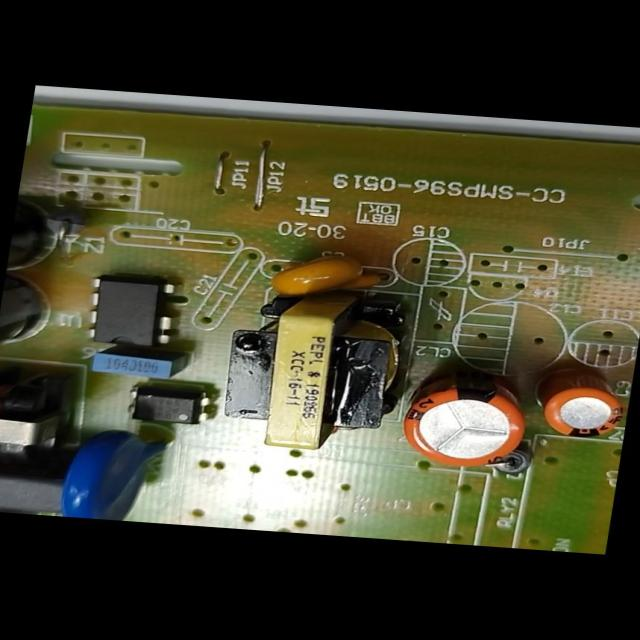Cap1: (388, 357, 537, 481)
Cap2: (525, 359, 634, 444)
Cap3: (0, 272, 85, 384)
Cap4: (2, 182, 108, 304)
MOSFET: (66, 269, 188, 355)
Mov: (47, 412, 166, 522)
Resistor: (0, 503, 51, 516)
Transformer: (205, 275, 430, 464), (0, 356, 86, 475)
